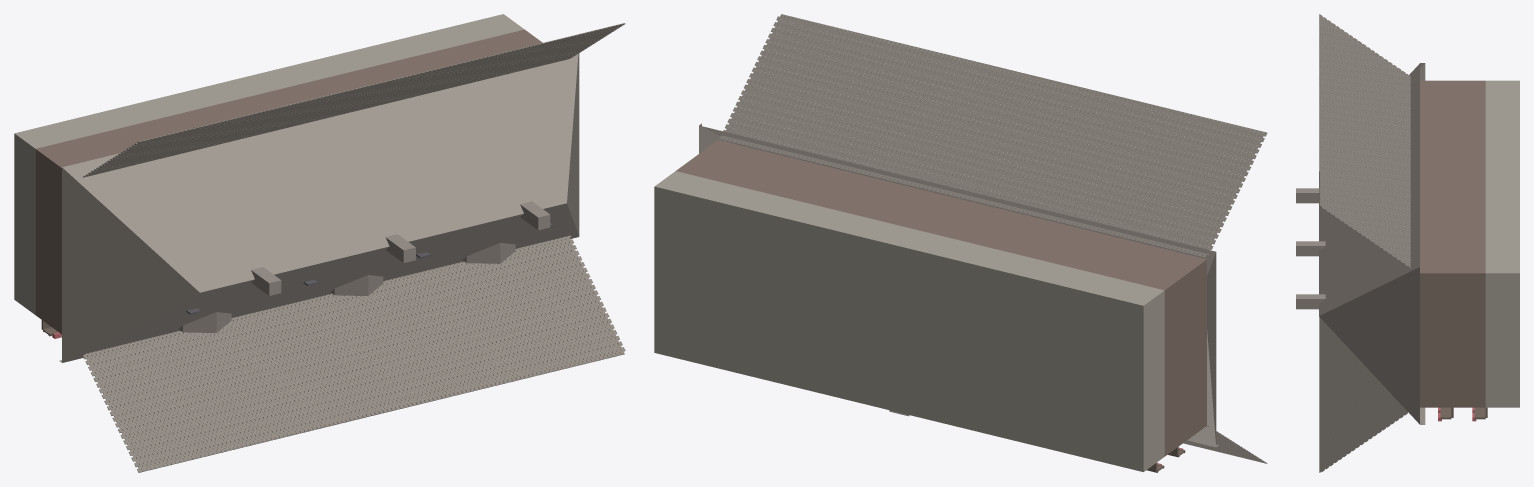
Rendered from hofgut_sternen.glb.
The picture shows the model from 3 angles, left to right: view 1: azimuth 30°, elevation 25°; view 2: azimuth 150°, elevation 25°; view 3: azimuth 270°, elevation 25°; orthographic projection. The views are drawn at different scales.
Parts seen in each view (by area): view 1: dach, schindel, sockel, waende, gauben, kamine; view 2: sockel, schindel, waende, dach; view 3: schindel, waende, dach, sockel, kamine, balkone.
Part boxes in pixels (x1,y1,x2,y2): dach: [59, 53, 579, 362]; schindel: [82, 23, 625, 472]; sockel: [14, 14, 524, 314]; waende: [35, 29, 542, 334]; gauben: [179, 243, 515, 332]; kamine: [251, 201, 550, 295]; sockel: [654, 171, 1164, 471]; schindel: [719, 14, 1267, 463]; waende: [676, 140, 1206, 456]; dach: [699, 123, 1218, 447]; schindel: [1319, 14, 1410, 472]; waende: [1420, 80, 1485, 407]; dach: [1319, 63, 1425, 424]; sockel: [1485, 80, 1519, 407]; kamine: [1296, 188, 1325, 309]; balkone: [1440, 407, 1487, 419].
Size of the model in its own units: 42.3 by 25.89 by 19.63.
